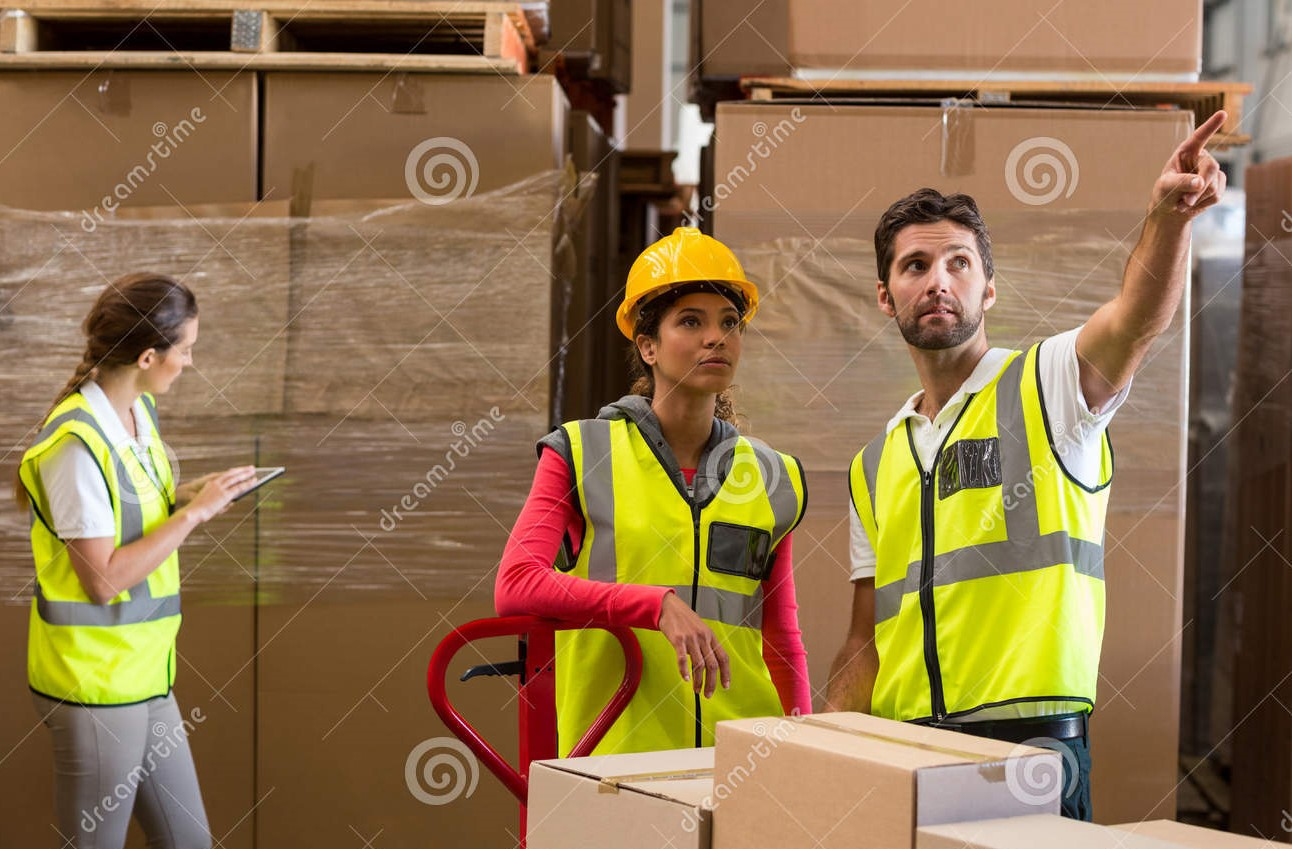epi: (502, 208, 839, 765)
noepi: (837, 187, 1183, 838), (23, 274, 259, 848)
